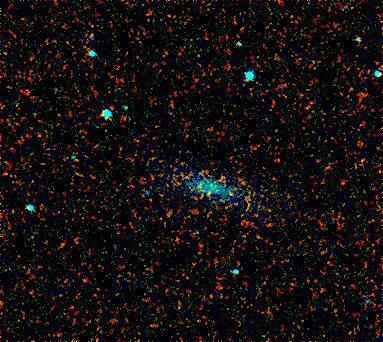star: (206, 178, 236, 208)
